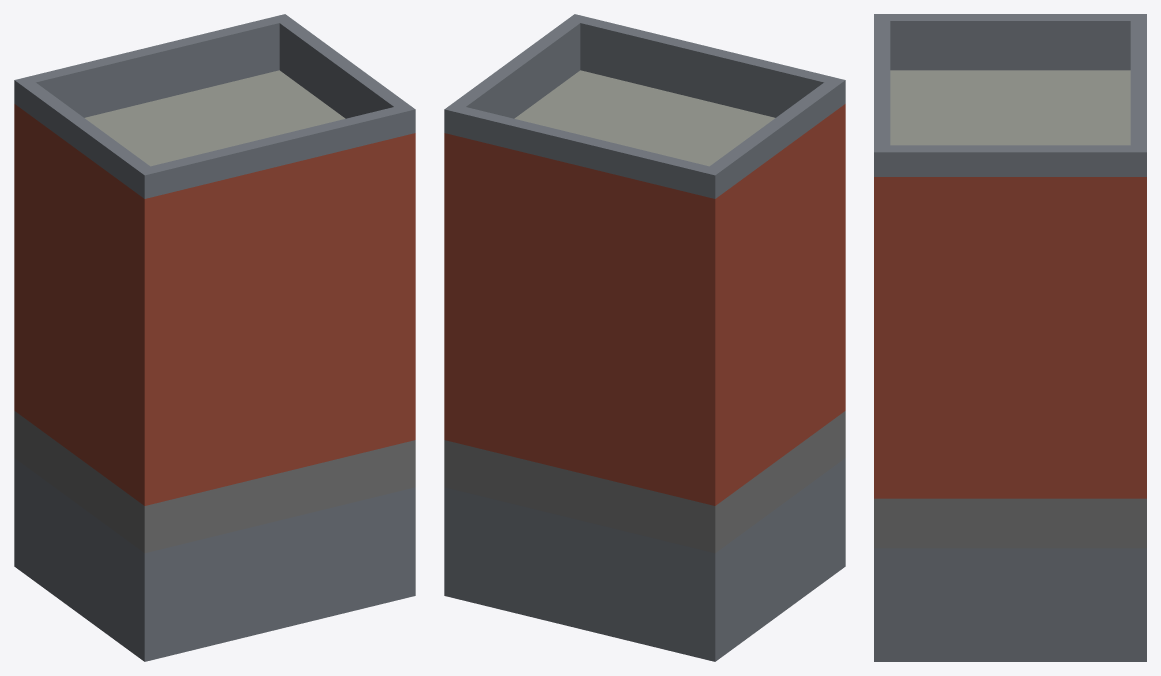
File: far.fbx
3 views of the same model, side by side, from view 1: azimuth 30°, elevation 25°; view 2: azimuth 150°, elevation 25°; view 3: azimuth 270°, elevation 25° (orthographic). The views are drawn at different scales.
Visible parts, largest first — view 1: a2020/0/far; view 2: a2020/0/far; view 3: a2020/0/far.
Part boxes in pixels (x1,y1,x2,y2): a2020/0/far: (14,14,415,661); a2020/0/far: (444,14,845,661); a2020/0/far: (874,14,1146,661).
Bounding box in the file's own units: 6 × 10.3 × 5.
